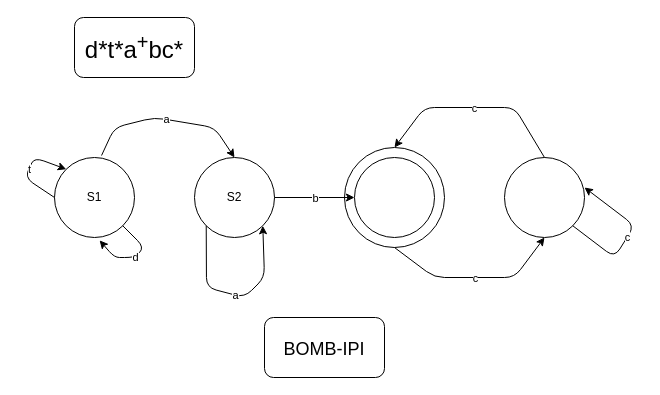
Some shapes in this 660 by 395 pixel diagram are drawn without their labels. The box of each missing label's shape, as (x1, y1, x2, y2) in pixels:
S3: (354, 156, 434, 238)
S4: (504, 156, 584, 238)
